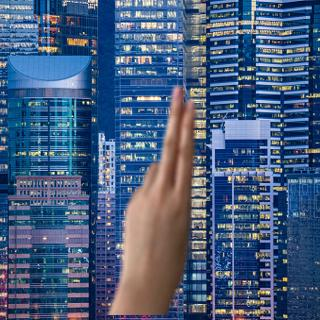DHAVE: (118, 83, 204, 295)
